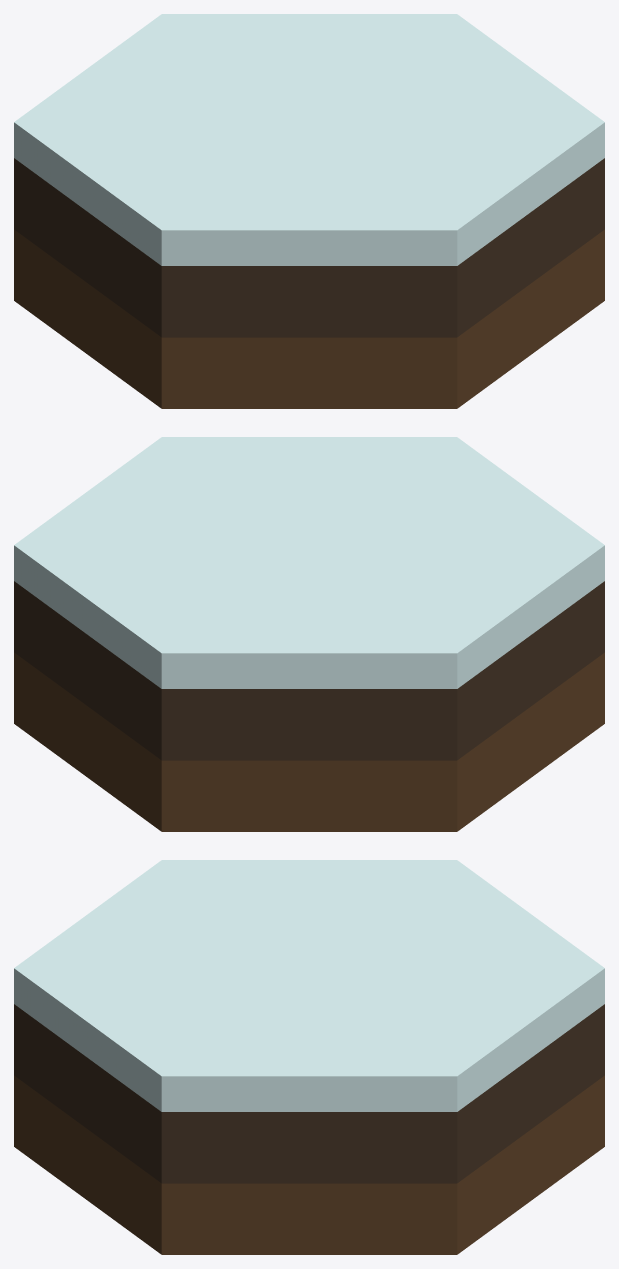
The model's file is hexagon-snow.glb.
3 renders of one model, top to bottom at view 1: azimuth 30°, elevation 25°; view 2: azimuth 150°, elevation 25°; view 3: azimuth 270°, elevation 25°, orthographic.
Visible parts, largest first — view 1: hexagon-snow; view 2: hexagon-snow; view 3: hexagon-snow.
Part boxes in pixels (left/top/right/bottom): hexagon-snow: left=14, top=14, right=604, bottom=408; hexagon-snow: left=14, top=437, right=604, bottom=831; hexagon-snow: left=14, top=860, right=604, bottom=1254.
Size of the model in its own units: 25.98 by 10 by 30.
1 material, 1 textured.
